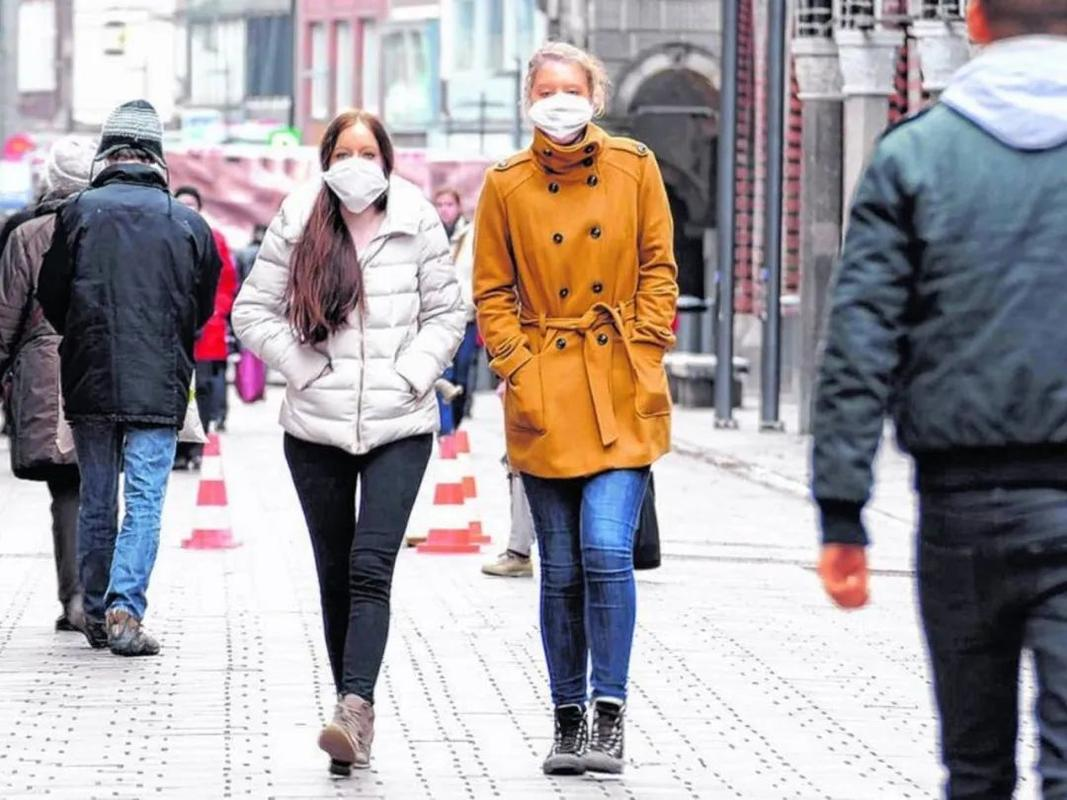mask: (322, 114, 390, 213), (530, 49, 600, 142)
